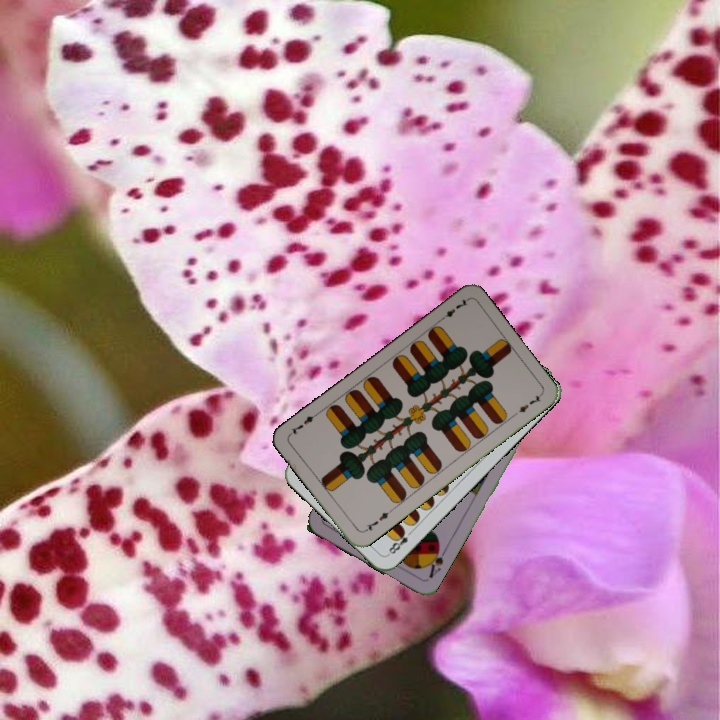E7: (435, 295, 471, 324), (359, 507, 394, 535)
E8: (383, 525, 416, 558)
SA: (422, 542, 449, 581)
